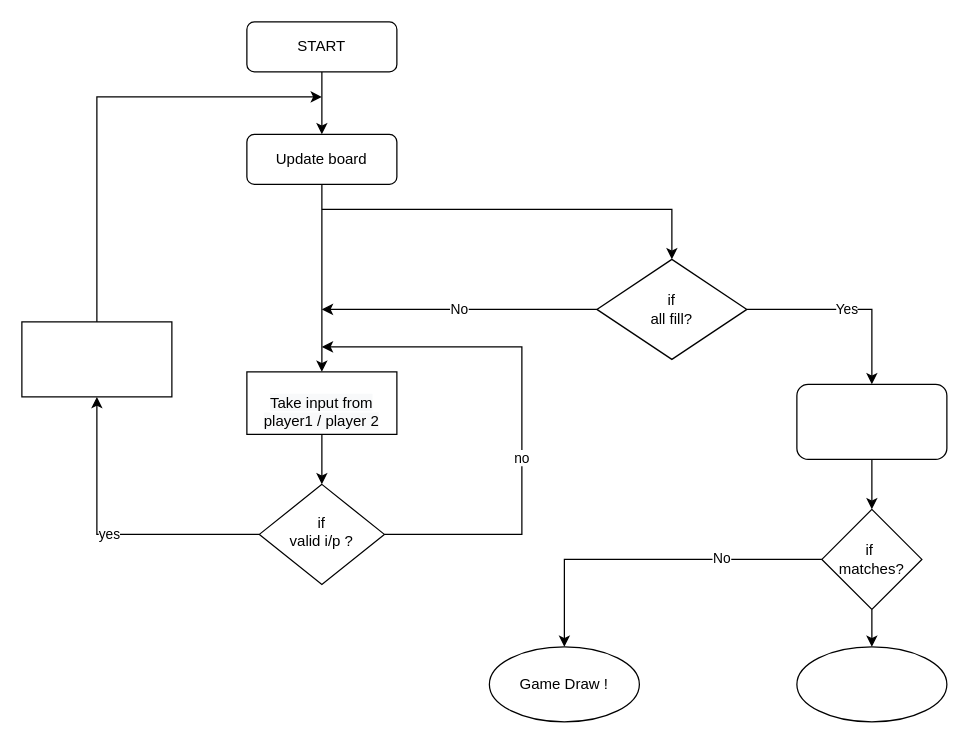
The diagram is 969 pixels wide and 744 high, and some of its shapes have lost their labels. Here are the shapes that lost their labels. From the top down, the centre of each, then its label:
point (96, 359): Mark the token
point (871, 421): Check row / column / diagonal of board
point (871, 684): Player 1 / player 2 win !
